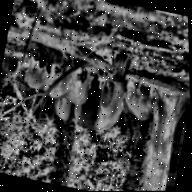boar: (119, 79, 158, 125)
